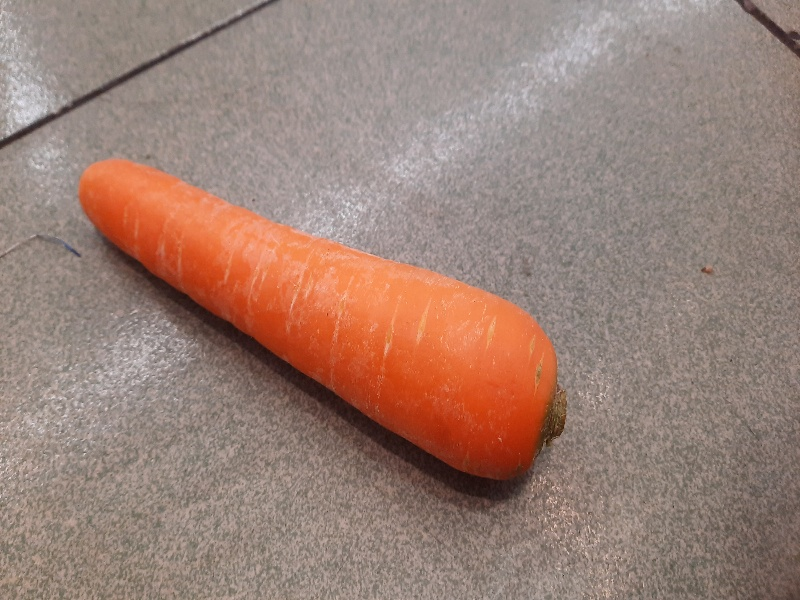vege: (75, 155, 570, 496)
